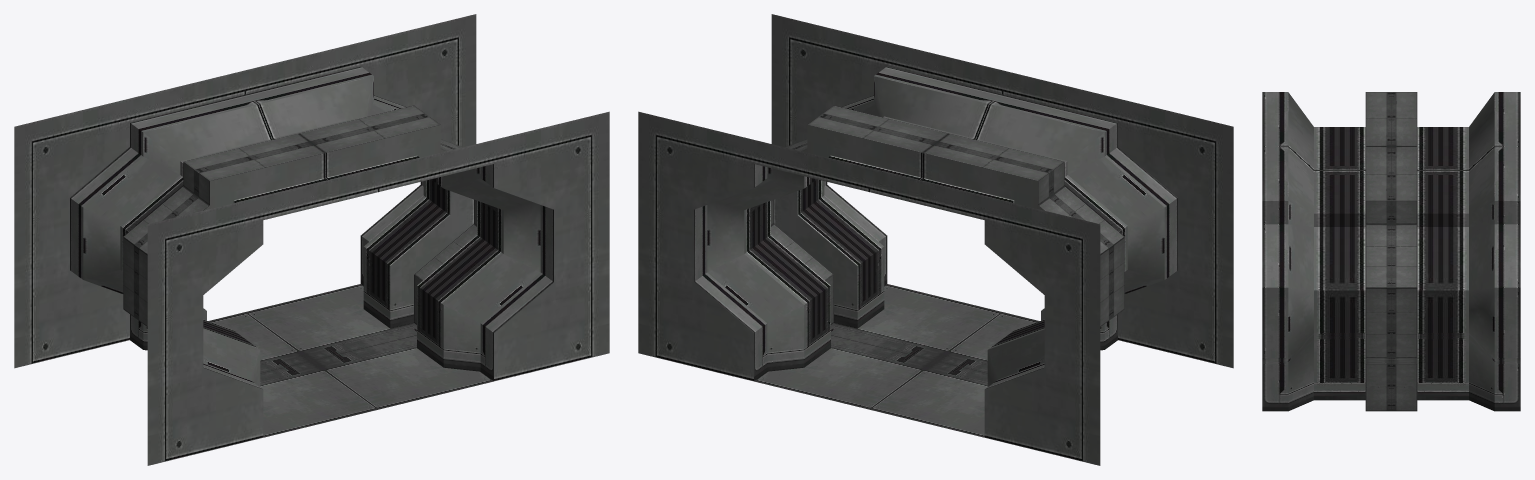
Rendered from future-doorway.obj.
3 views of the same model, side by side, from view 1: azimuth 30°, elevation 25°; view 2: azimuth 150°, elevation 25°; view 3: azimuth 270°, elevation 25° (orthographic). The views are drawn at different scales.
Visible parts, largest first — view 1: Mesh1 For_Mousedroid__Your_doorway_with_better_textures1 Model; view 2: Mesh1 For_Mousedroid__Your_doorway_with_better_textures1 Model; view 3: Mesh1 For_Mousedroid__Your_doorway_with_better_textures1 Model.
Boxes of the visible parts, x1=… form: Mesh1 For_Mousedroid__Your_doorway_with_better_textures1 Model: x1=14, y1=14, x2=609, y2=465; Mesh1 For_Mousedroid__Your_doorway_with_better_textures1 Model: x1=638, y1=14, x2=1233, y2=465; Mesh1 For_Mousedroid__Your_doorway_with_better_textures1 Model: x1=1262, y1=92, x2=1520, y2=411.
Size of the model in its own units: 3.05 by 1.52 by 1.52.
